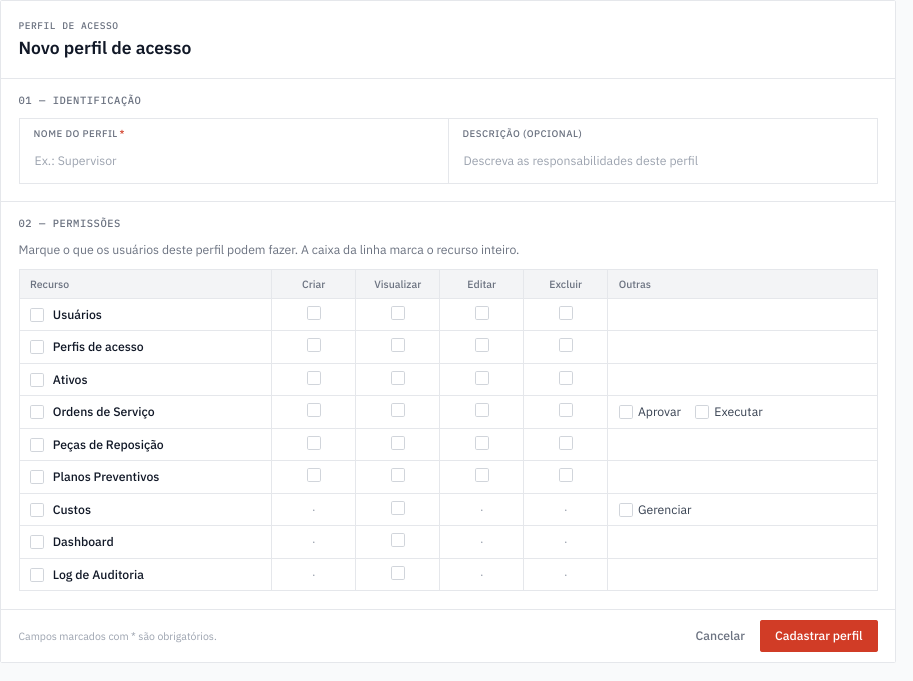
Test case: RoleEditPage — modo criação › deve marcar todas as permissões do grupo ao marcar o cabeçalho
Click the checkbox named "Dashboard" next to "Dashboard": click(37, 542) left=30, top=535, right=44, bottom=549
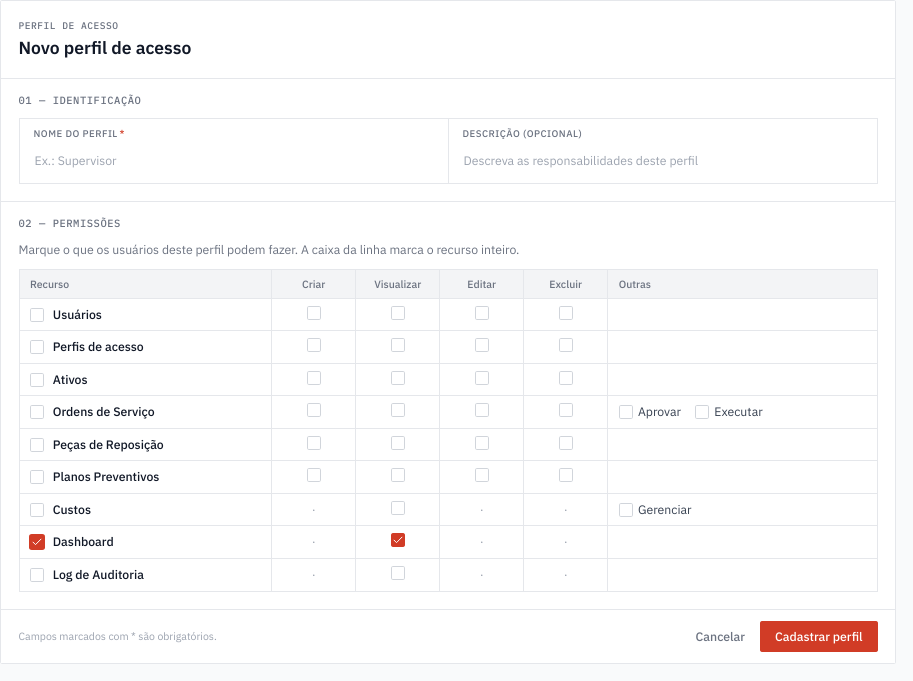
Now the checkbox named "Visualizar — Dashboard" is checked, box left=391, top=533, right=405, bottom=547
